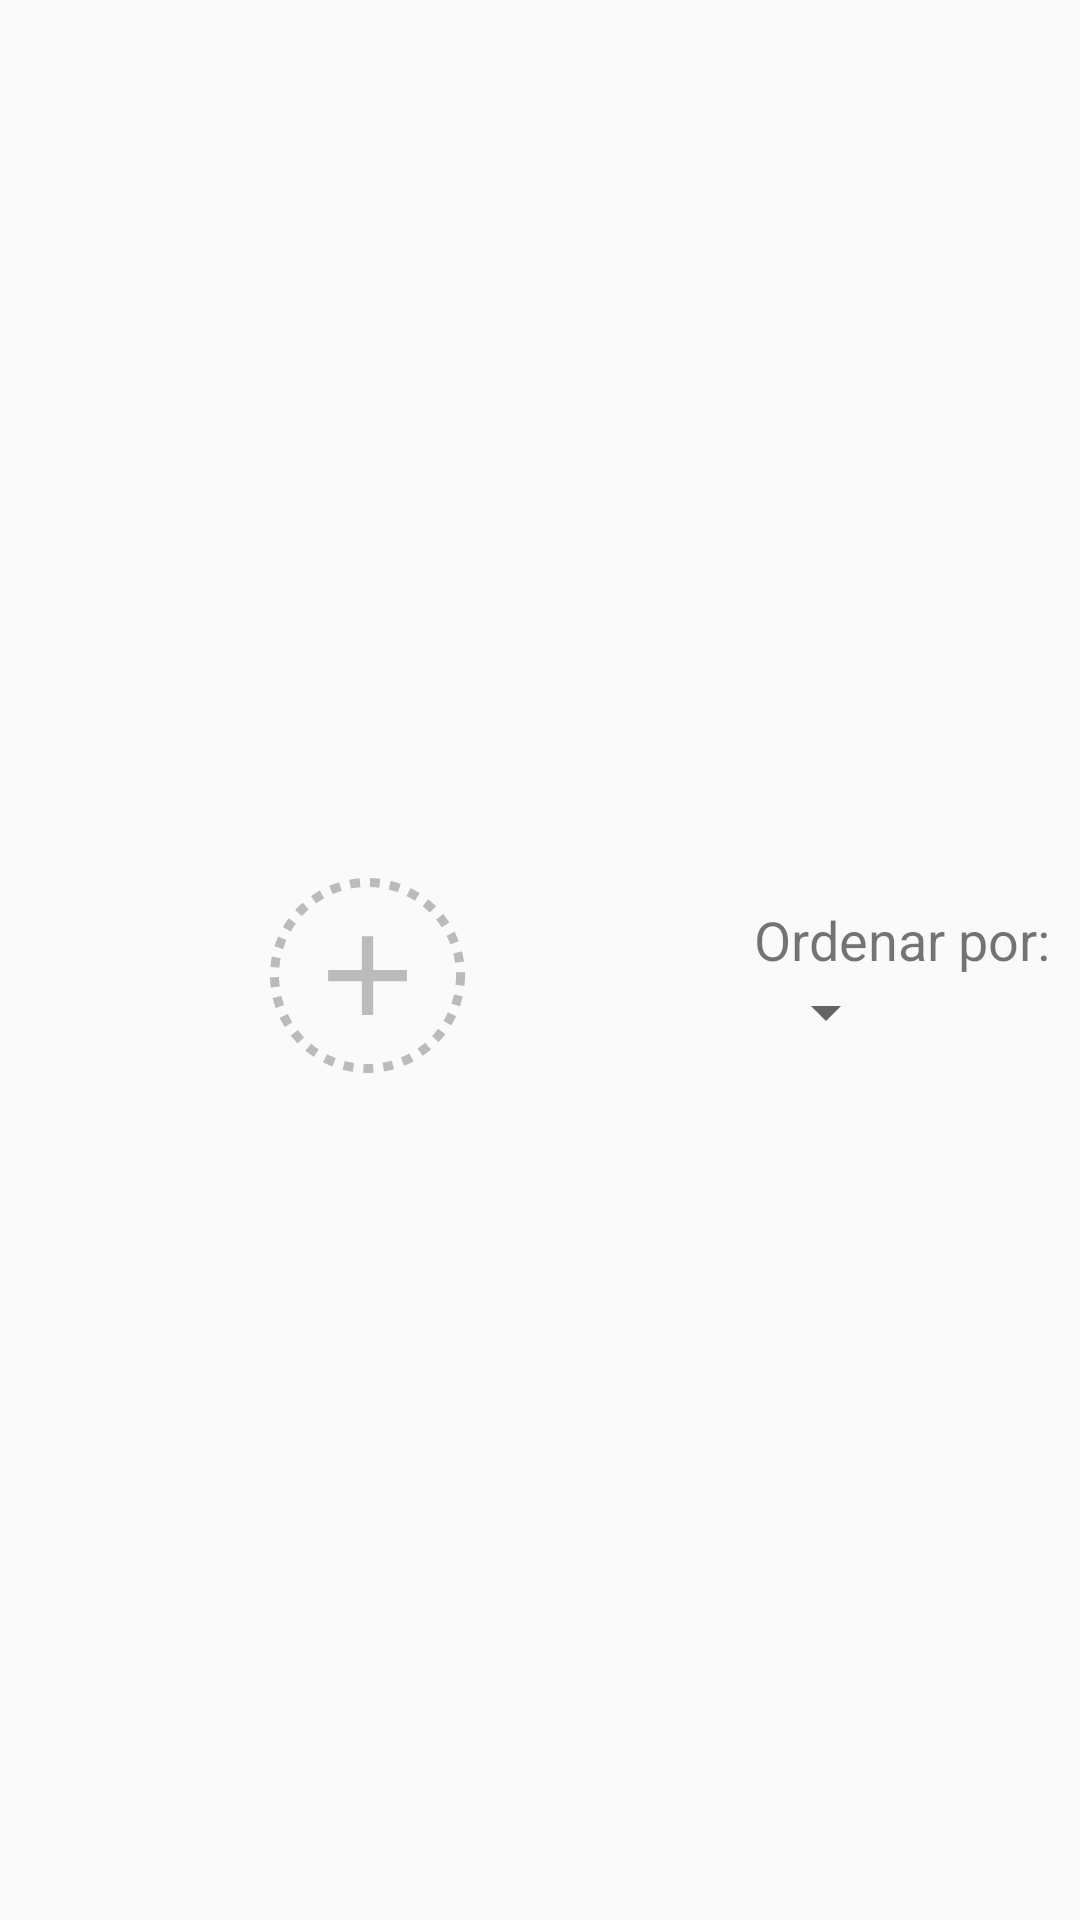

Icon bounding boxes for this 1080 x 1920 phone screenshot, format (x1, y1, x2, y2):
add: (270, 878, 465, 1073)
